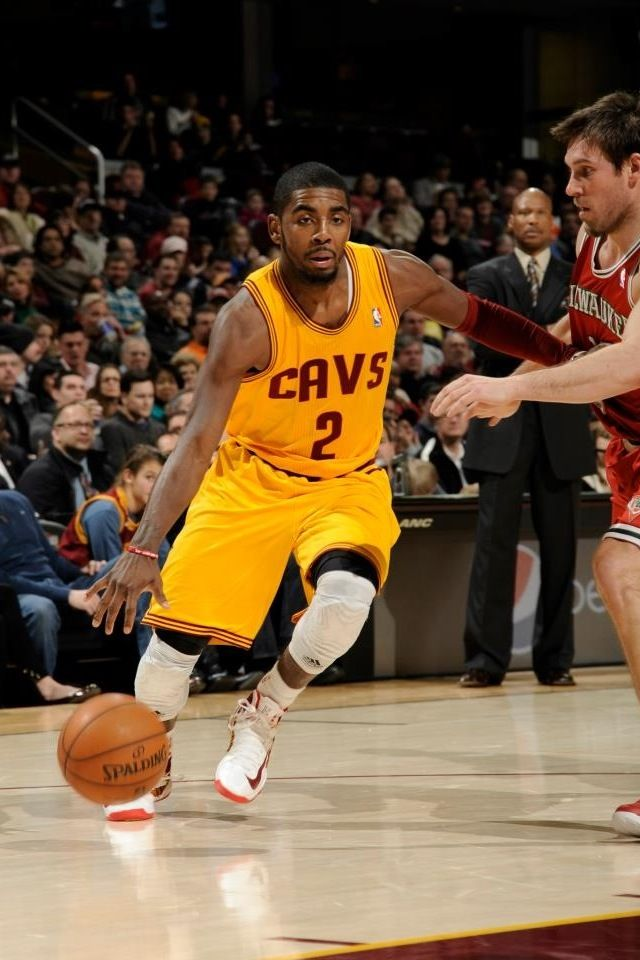b_ball: (35, 687, 176, 837)
face: (537, 99, 640, 239), (255, 162, 368, 289)
player: (94, 160, 473, 850), (415, 84, 640, 924)
